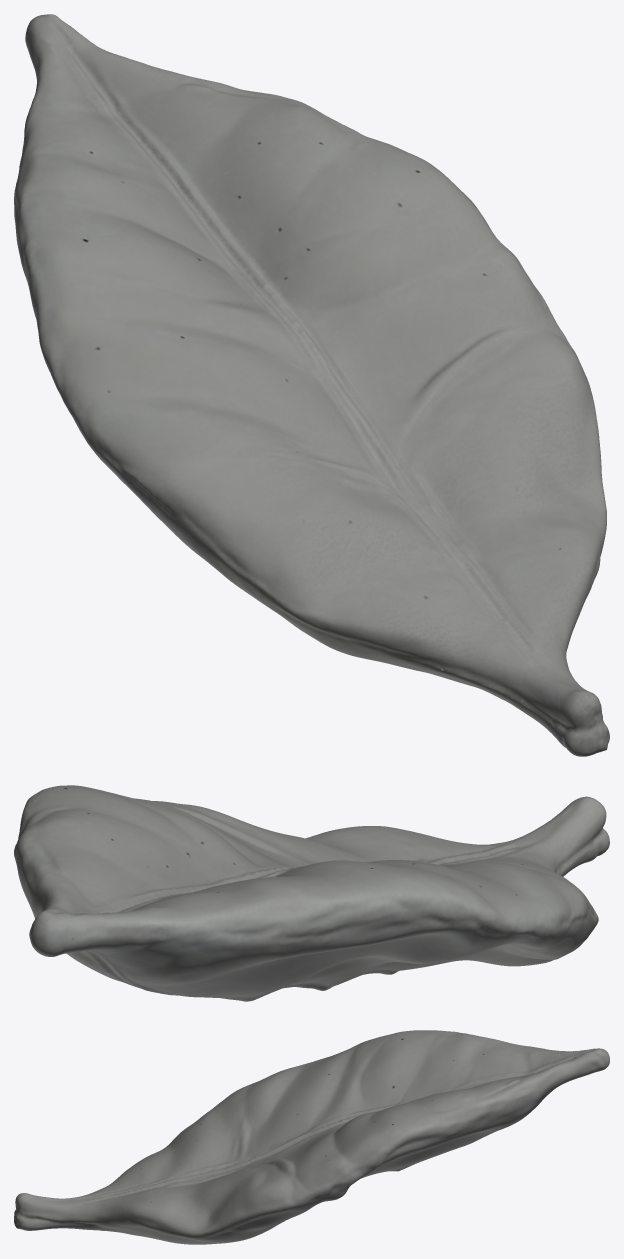
File: pine-branch-02.glb
The picture shows the model from 3 angles, top to bottom: view 1: azimuth 30°, elevation 25°; view 2: azimuth 150°, elevation 25°; view 3: azimuth 270°, elevation 25°; orthographic projection. The views are drawn at different scales.
Size of the model in its own units: 0.9745 by 0.6665 by 2.
Materials: 1 (1 with a texture image).
